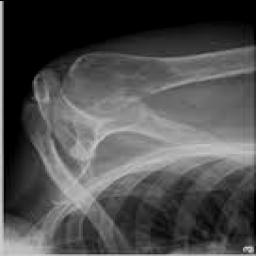cancer: (60, 46, 256, 116)
